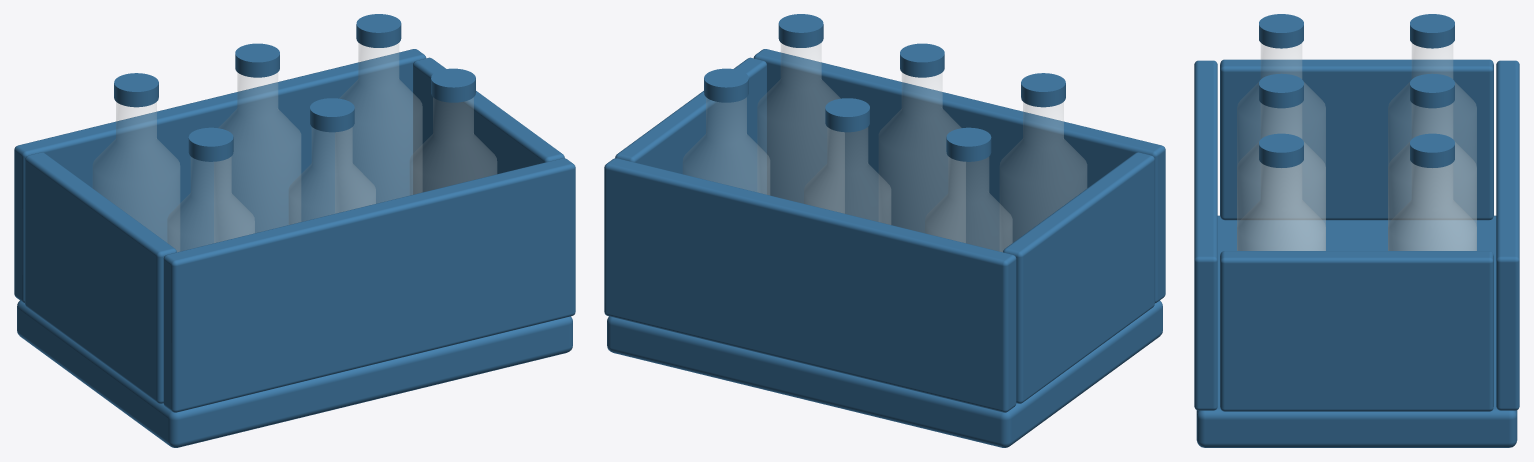
The model's file is squash-club-and-racket-workshop-bottle-crate-fecd3678__29768.glb.
The picture shows the model from 3 angles, left to right: view 1: azimuth 30°, elevation 25°; view 2: azimuth 150°, elevation 25°; view 3: azimuth 270°, elevation 25°; orthographic projection.
Parts seen in each view (by area): view 1: bottle-crate; view 2: bottle-crate; view 3: bottle-crate.
Boxes of the visible parts, x1,y1,x2,y2 form: bottle-crate: [14, 14, 575, 447]; bottle-crate: [604, 14, 1165, 447]; bottle-crate: [1194, 14, 1519, 447].
Size of the model in its own units: 0.505 by 0.313 by 0.345.
